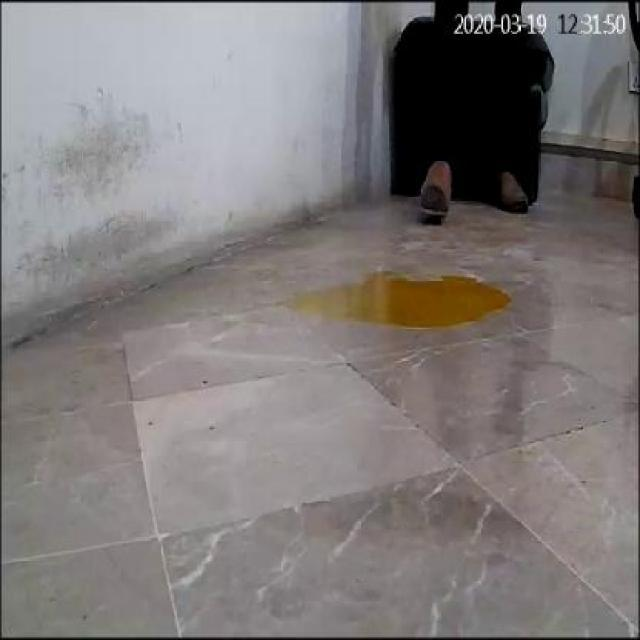spill: (284, 272, 514, 330)
